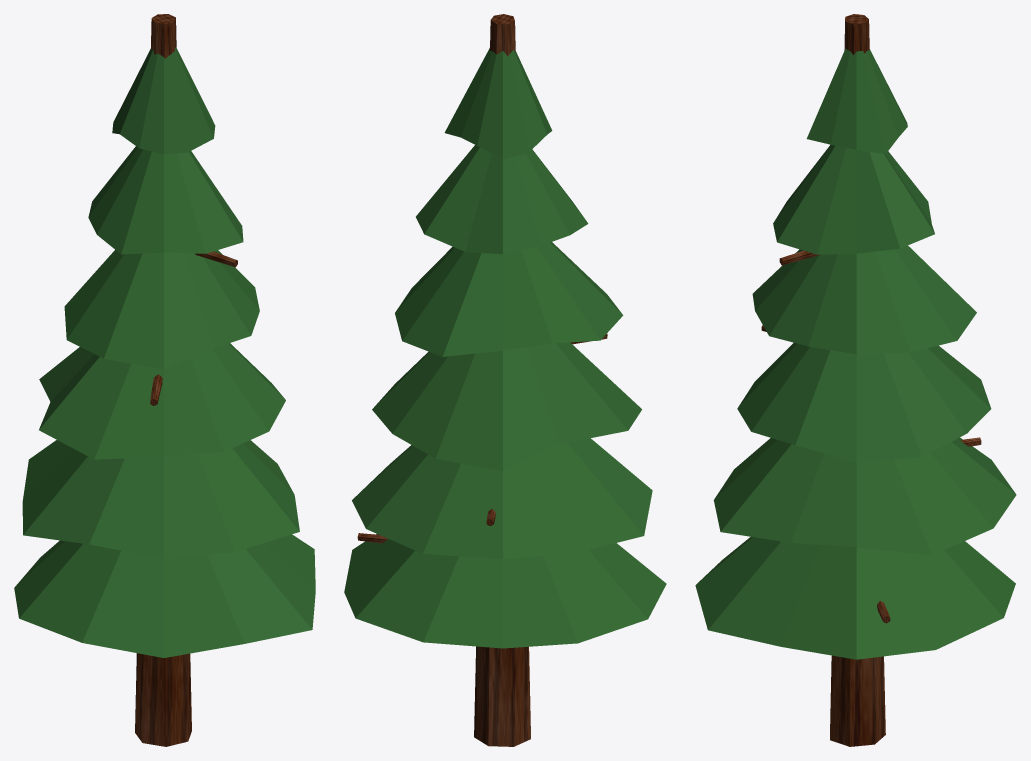
The model's file is nodo-tree-pine-final-C1_qGXYY.glb.
The picture shows the model from 3 angles, left to right: view 1: azimuth 30°, elevation 25°; view 2: azimuth 150°, elevation 25°; view 3: azimuth 270°, elevation 25°; orthographic projection.
Visible parts, largest first — view 1: nodo-tree-pine-final; view 2: nodo-tree-pine-final; view 3: nodo-tree-pine-final.
Part boxes in pixels (bbox=[...]): nodo-tree-pine-final: bbox=[14, 14, 315, 746]; nodo-tree-pine-final: bbox=[344, 14, 666, 746]; nodo-tree-pine-final: bbox=[695, 14, 1016, 746].
Size of the model in its own units: 16.86 by 39 by 15.87.
2 materials, 2 textured.
